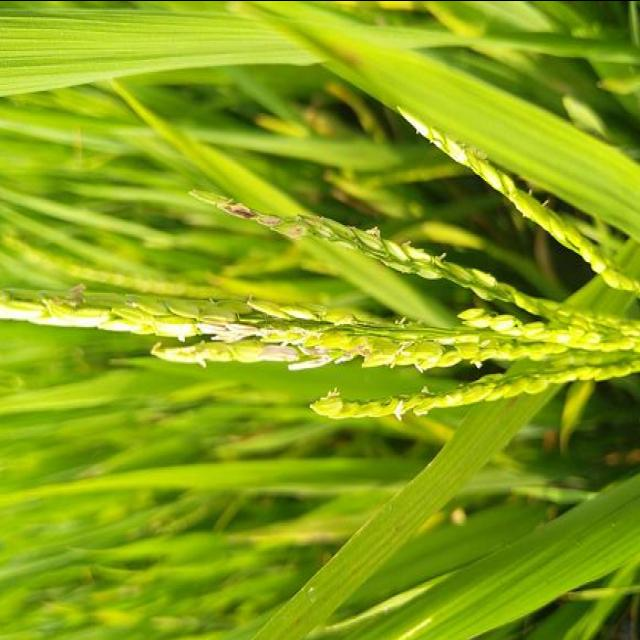Panicle Blight: (188, 187, 350, 240)
